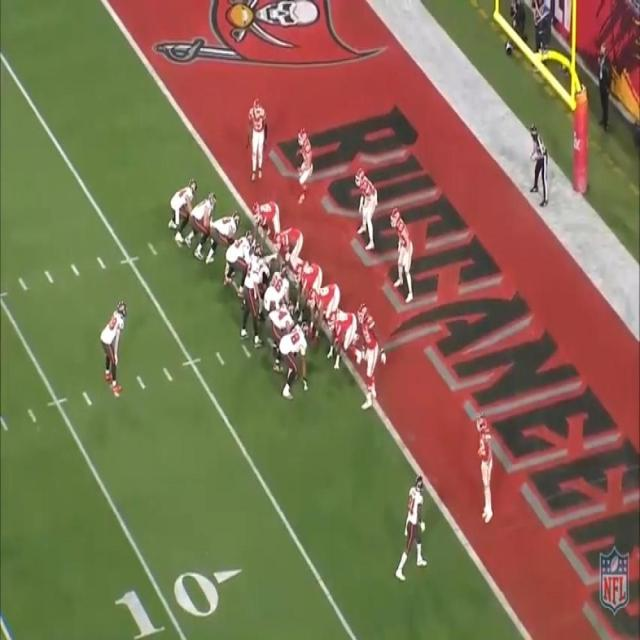center: (270, 261, 290, 300)
db: (473, 421, 494, 519)
lb: (359, 305, 378, 407), (391, 211, 413, 289), (354, 172, 376, 242)
qb: (242, 240, 265, 342)
skill: (399, 474, 425, 570), (100, 297, 124, 393), (193, 189, 214, 267), (166, 173, 194, 224), (250, 100, 268, 173), (300, 131, 312, 200)
